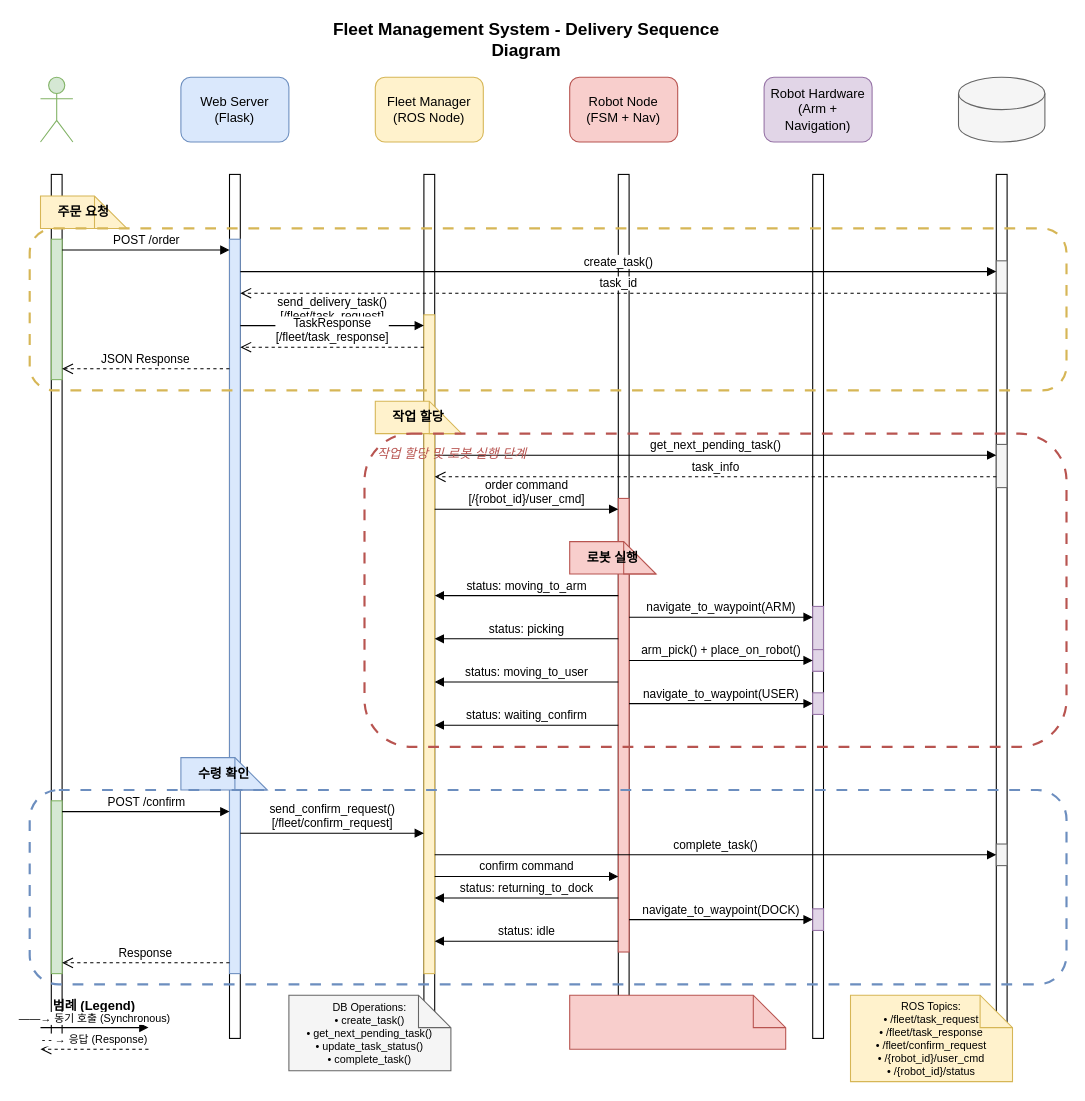
Some shapes in this 1085 by 1101 pixel diagram are drawn without their labels. The centre of each missing label's shape, as x and y in pixels:
"Database (PostgreSQL)" goes at (x=1001, y=109).
"FSM States: IDLE → GO_TO_ARM → PICK → GO_TO_USER → WAIT_CONFIRM → GO_DOCK → IDLE" goes at (x=677, y=1021).
"Web Client" goes at (x=56, y=109).
"수령 확인 및 완료 단계" goes at (x=547, y=886).
"주문 처리 단계" goes at (x=547, y=309).
